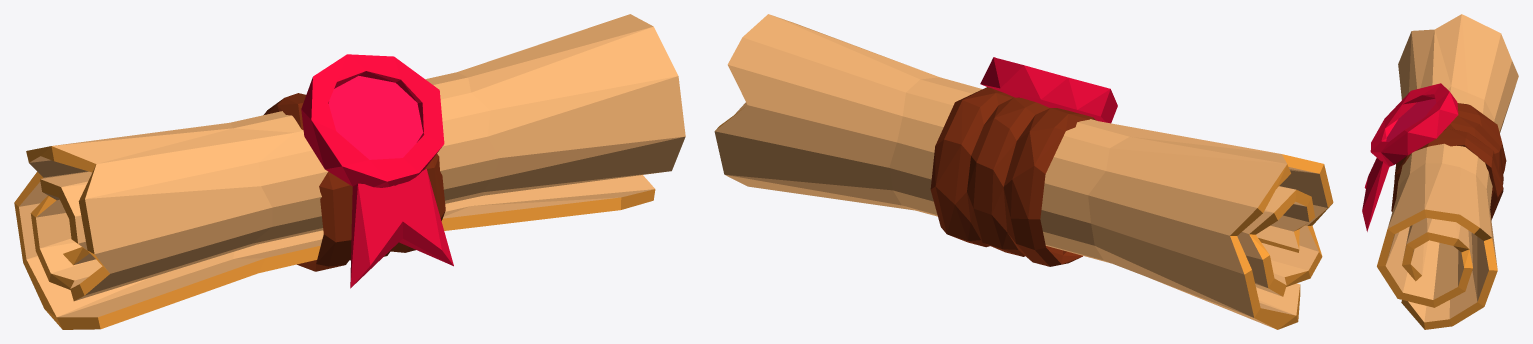
Rendered from Scroll_1.fbx.
The picture shows the model from 3 angles, left to right: view 1: azimuth 30°, elevation 25°; view 2: azimuth 150°, elevation 25°; view 3: azimuth 270°, elevation 25°; orthographic projection. The views are drawn at different scales.
Parts seen in each view (by area): view 1: Scroll_1; view 2: Scroll_1; view 3: Scroll_1.
Part boxes in pixels (left/top/right/bottom): Scroll_1: left=14, top=14, right=685, bottom=329; Scroll_1: left=714, top=14, right=1333, bottom=329; Scroll_1: left=1362, top=14, right=1518, bottom=329.
Bounding box in the file's own units: 45.41 × 15.13 × 15.25.
